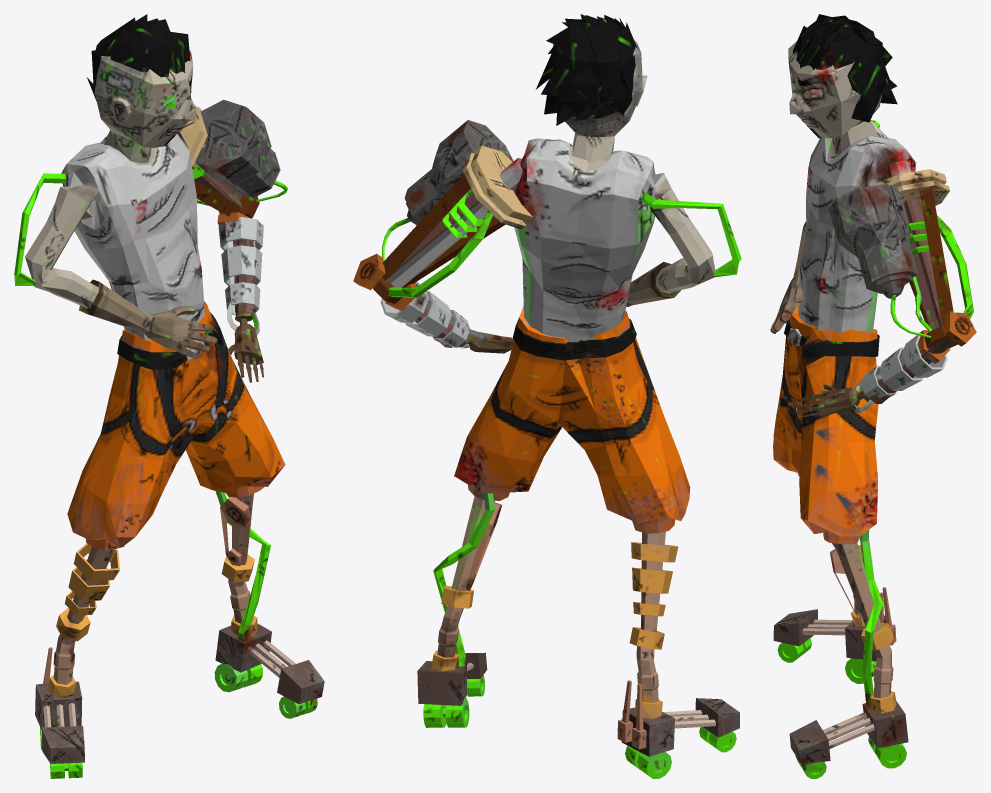
Rendered from CyborgFINALAnimation_000094.obj.
3 renders of one model, left to right at view 1: azimuth 30°, elevation 25°; view 2: azimuth 150°, elevation 25°; view 3: azimuth 270°, elevation 25°, orthographic. The views are drawn at different scales.
Parts seen in each view (by area): view 1: CyborgMesh_Cube.002; view 2: CyborgMesh_Cube.002; view 3: CyborgMesh_Cube.002.
Part boxes in pixels (left/top/right/bottom): CyborgMesh_Cube.002: left=14, top=14, right=324, bottom=778; CyborgMesh_Cube.002: left=353, top=14, right=741, bottom=778; CyborgMesh_Cube.002: left=770, top=14, right=976, bottom=778.
Size of the model in its own units: 4.34 by 9.6 by 2.6.
